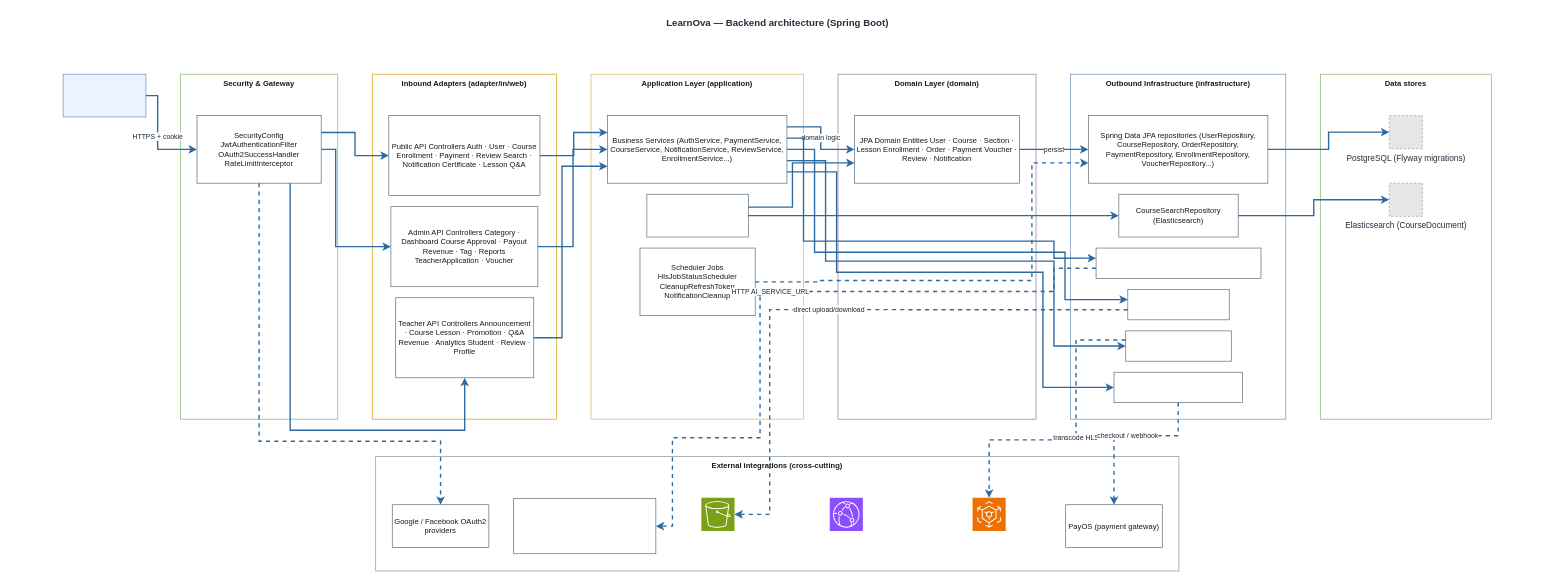
The diagram is 1554 pixels wide and 583 high, and some of its shapes have lost their labels. Grey dashed boxes stand in for pictures. The centre of each missing label's shape, as x and y in pixels:
ai-service (FastAPI) /summarize · /generate-quiz -> Gemini API: the point at 584,526
AiServiceClient (FastAPI client): the point at 1178,262
CloudFront (signed URLs): the point at 846,514
FRONTEND / API CLIENTS: the point at 104,95
MediaConvert (HLS): the point at 989,514
MediaConvertService: the point at 1178,345
PayOSService (PayOS SDK): the point at 1177,387
S3 (storage): the point at 718,514
S3Service (AWS S3): the point at 1178,304
SearchService / CourseIndexService: the point at 697,215
